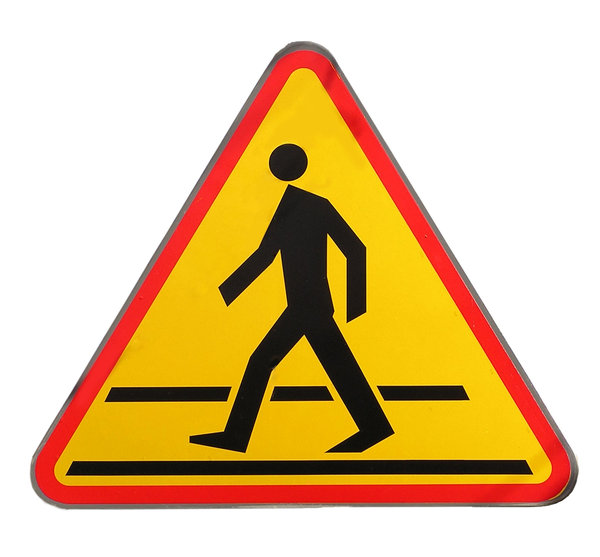pedestrian: (64, 71, 554, 495)
